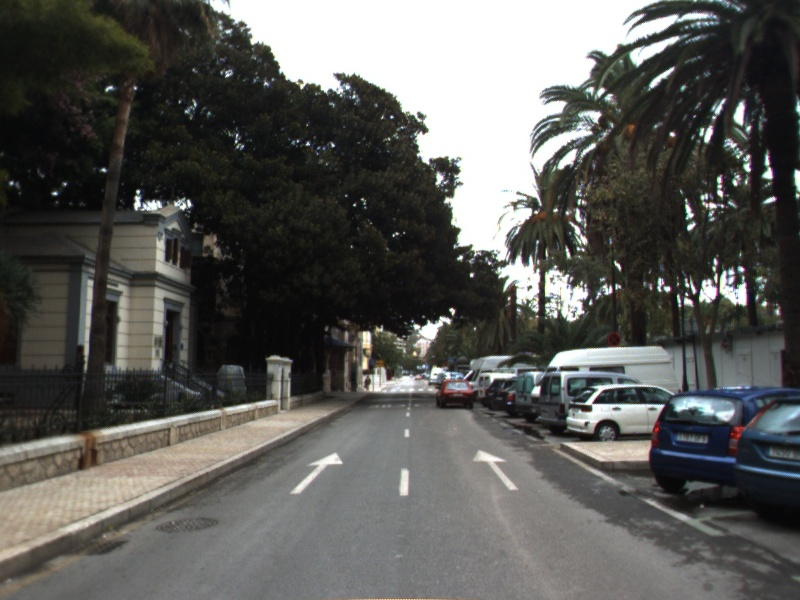STRAIGHT: (288, 451, 345, 496), (470, 448, 520, 492)
